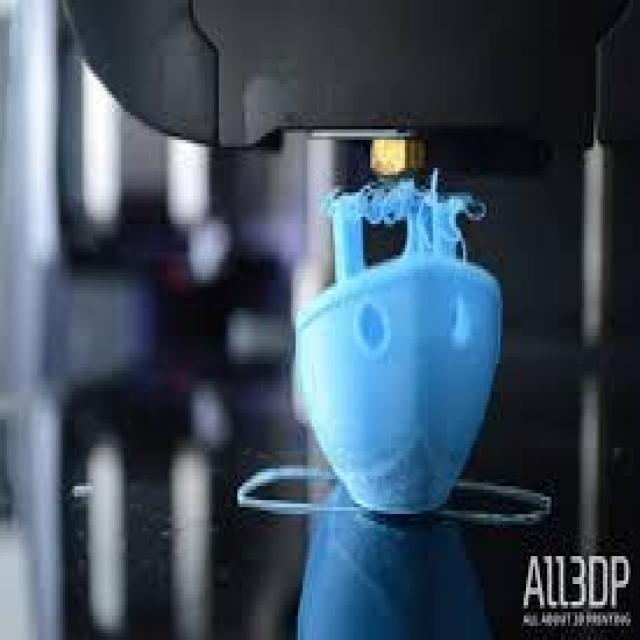Spaghetti: (332, 169, 490, 264)
